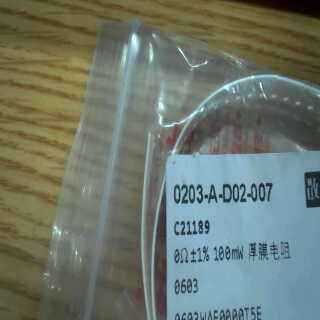0R: (170, 244, 248, 301)
